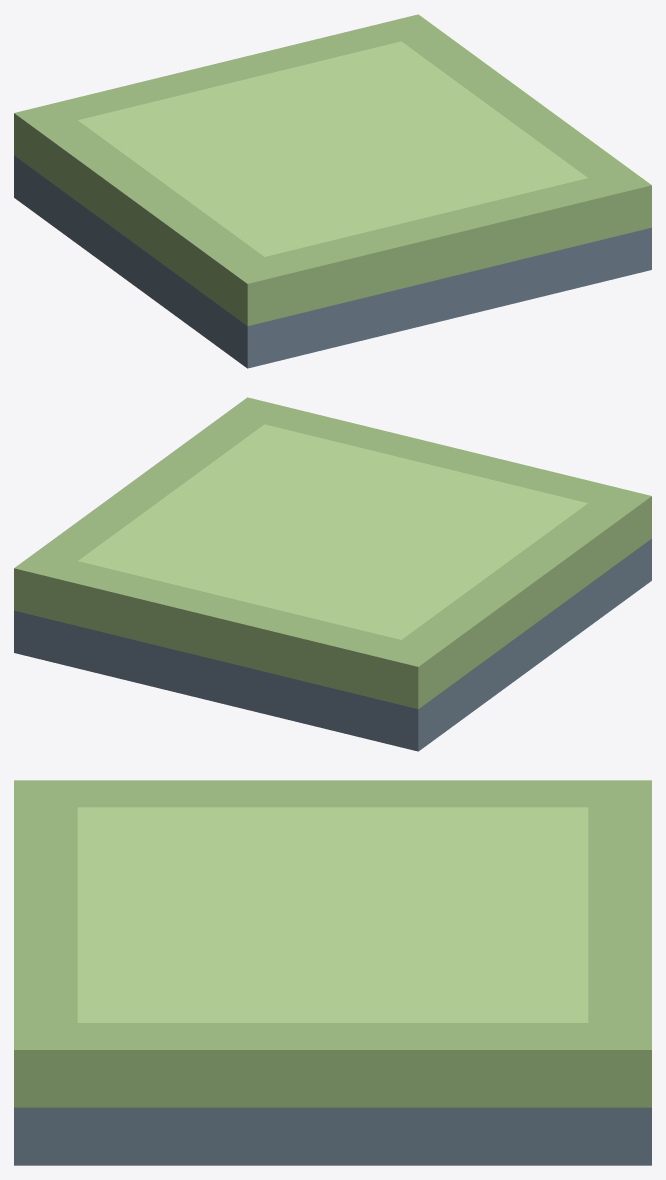
Rendered from platform6.fbx.
3 renders of one model, top to bottom at view 1: azimuth 30°, elevation 25°; view 2: azimuth 150°, elevation 25°; view 3: azimuth 270°, elevation 25°, orthographic. The views are drawn at different scales.
Visible parts, largest first — view 1: 对象; view 2: 对象; view 3: 对象.
Part boxes in pixels (<box>): 对象: <box>14,14,651,368</box>; 对象: <box>14,397,651,751</box>; 对象: <box>14,780,651,1165</box>.
Bounding box in the file's own units: 10 × 2 × 10.
Materials: 1 (1 with a texture image).
